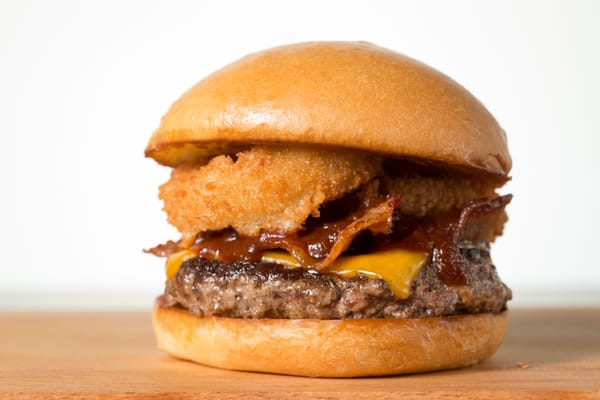soup: (141, 39, 519, 381)
